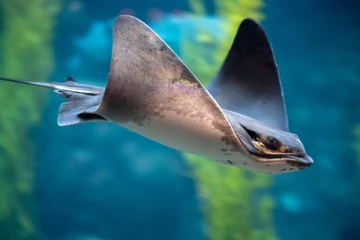Bat Ray: (2, 9, 346, 188)
